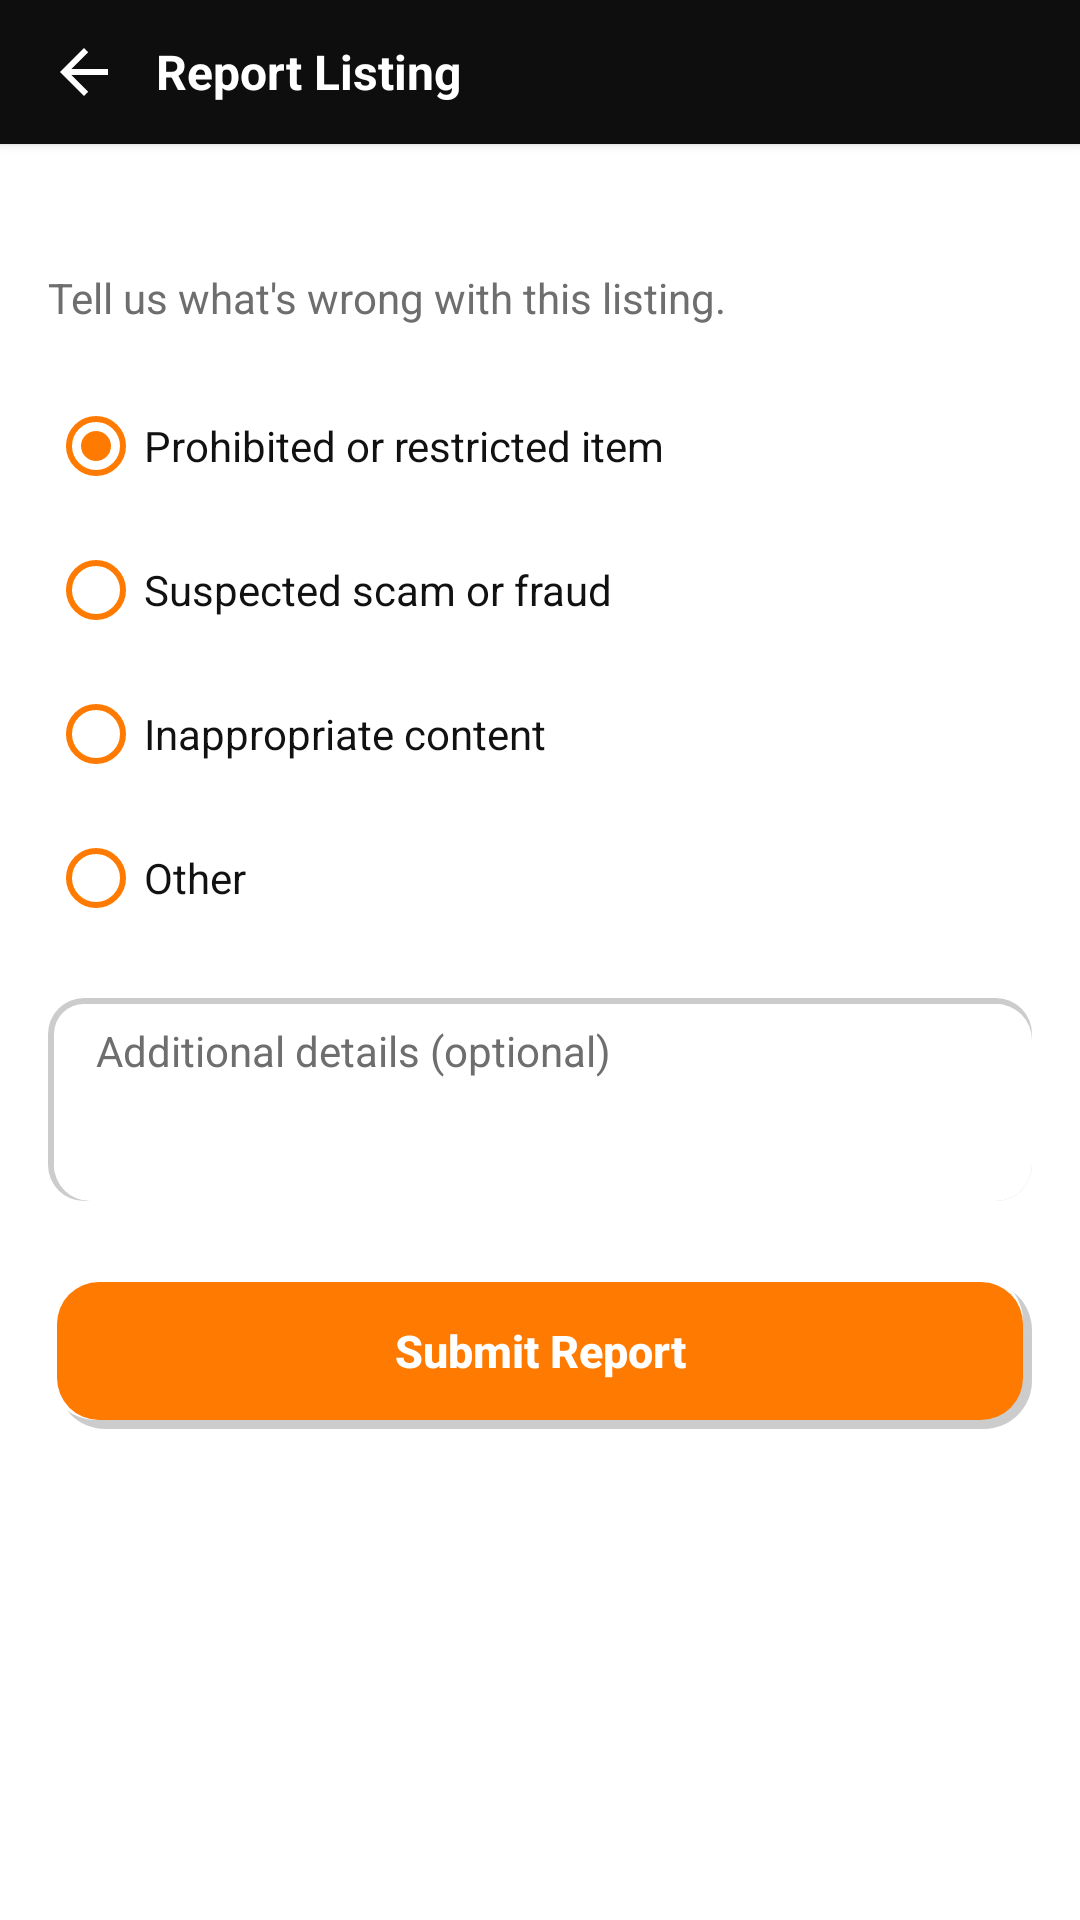

Point at icon controls on the screen. Image size 1080 × 1920, points as (x=x, y=y).
Navigate back: (x=84, y=72)
